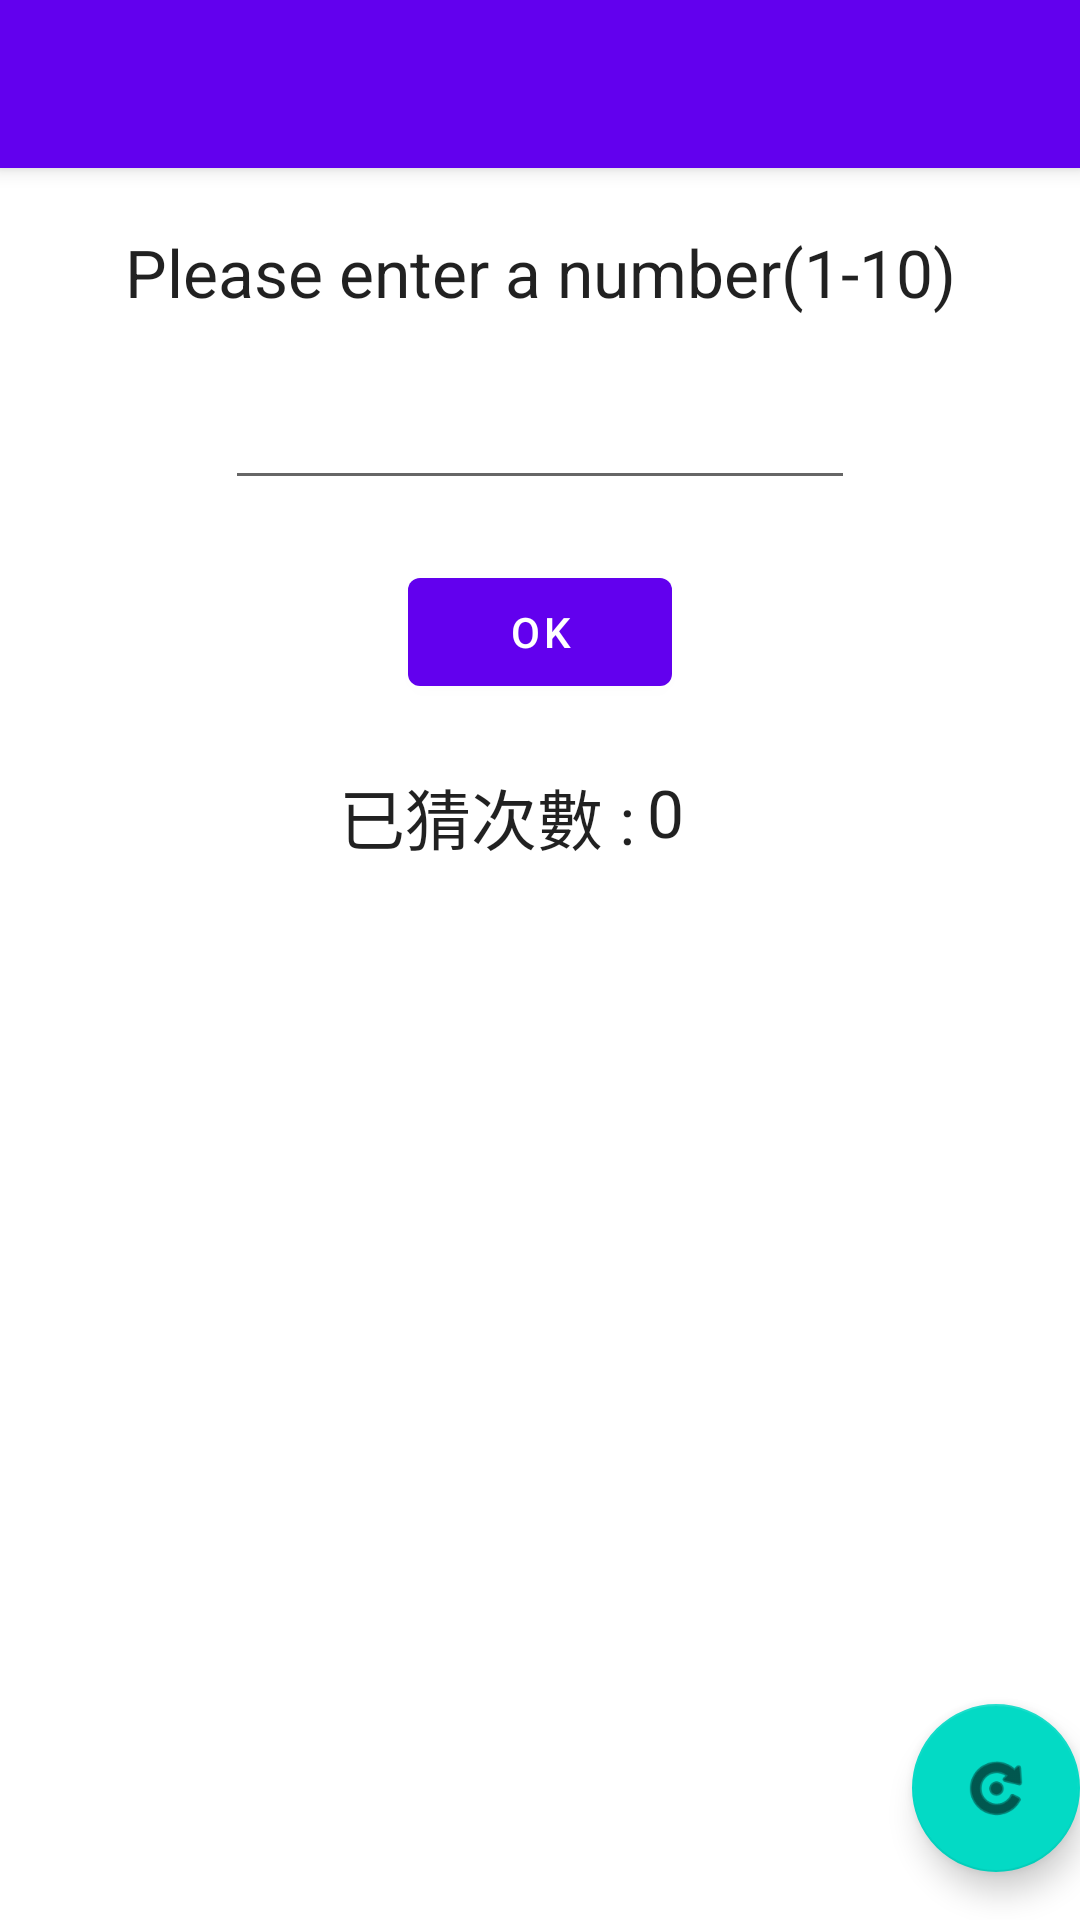

Named icons in this screenshot (1080 x 1920) and their bounding boxes, (x1, y1, x2, y2):
rotate: (912, 1704, 1080, 1872)
